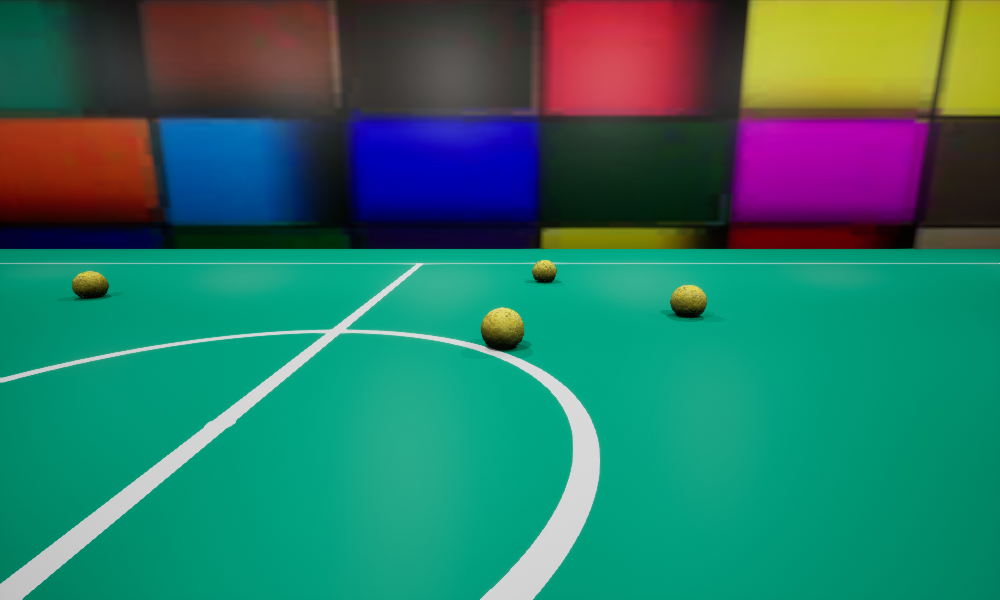b: (481, 307, 523, 348), (670, 285, 706, 317), (72, 271, 108, 298), (532, 260, 556, 282)
